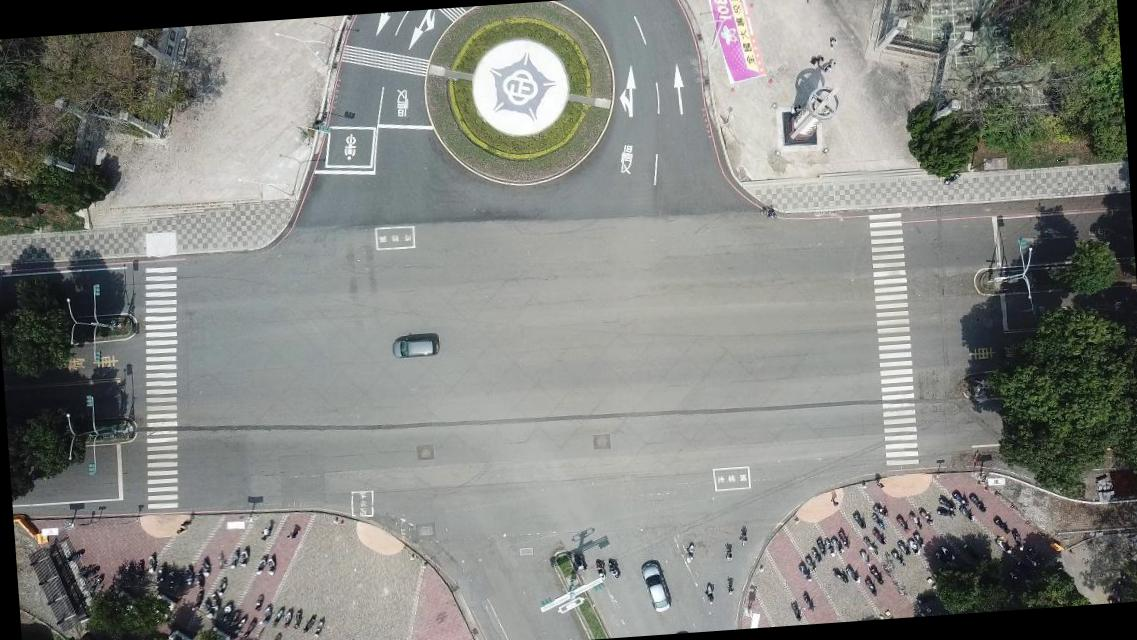vehicle: (640, 560, 672, 614), (391, 336, 438, 358)
